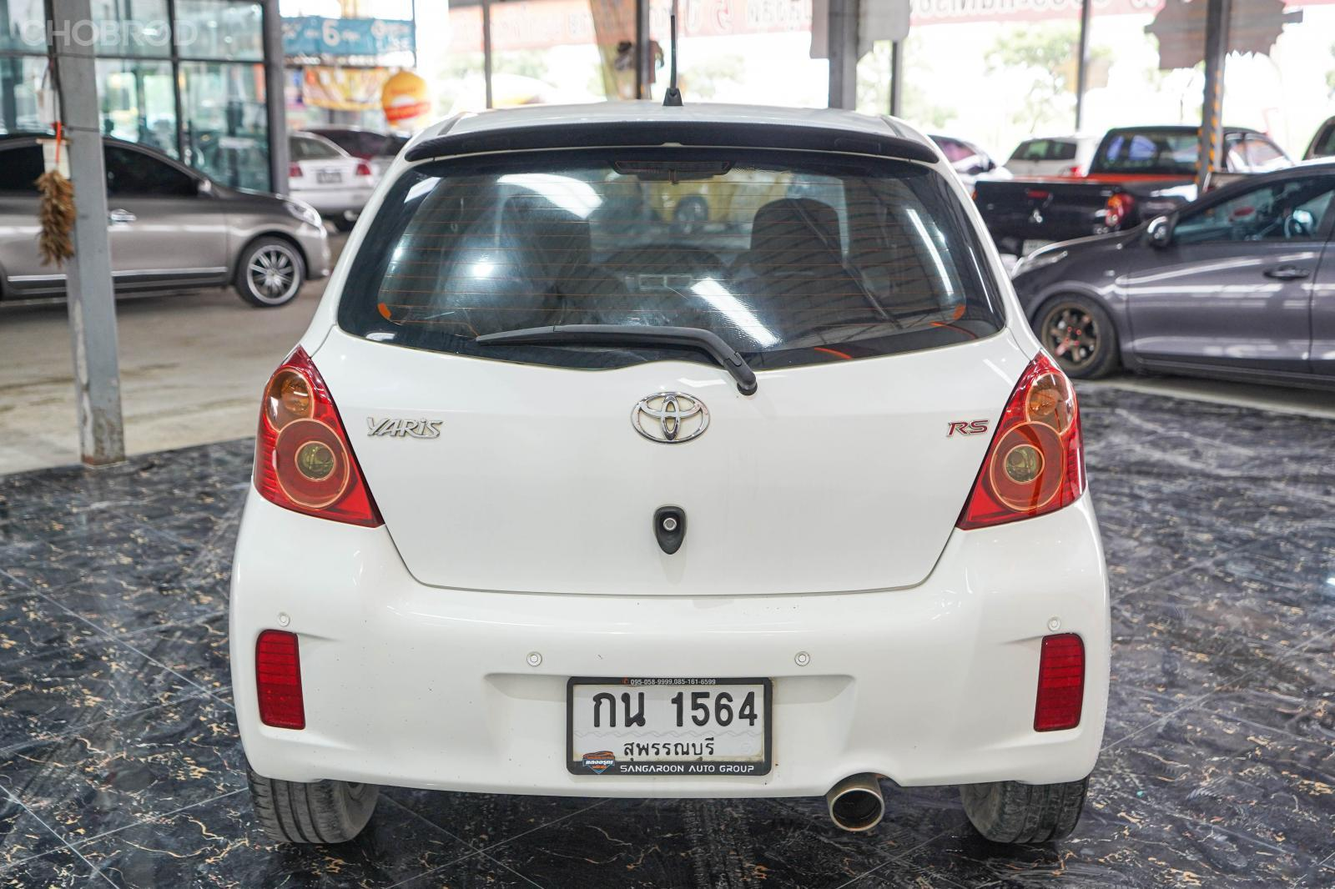license-plate: (562, 673, 773, 778)
